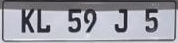character: (36, 6, 51, 33), (66, 7, 82, 32), (20, 7, 35, 33), (83, 8, 97, 33), (113, 7, 127, 32), (144, 7, 158, 32)
